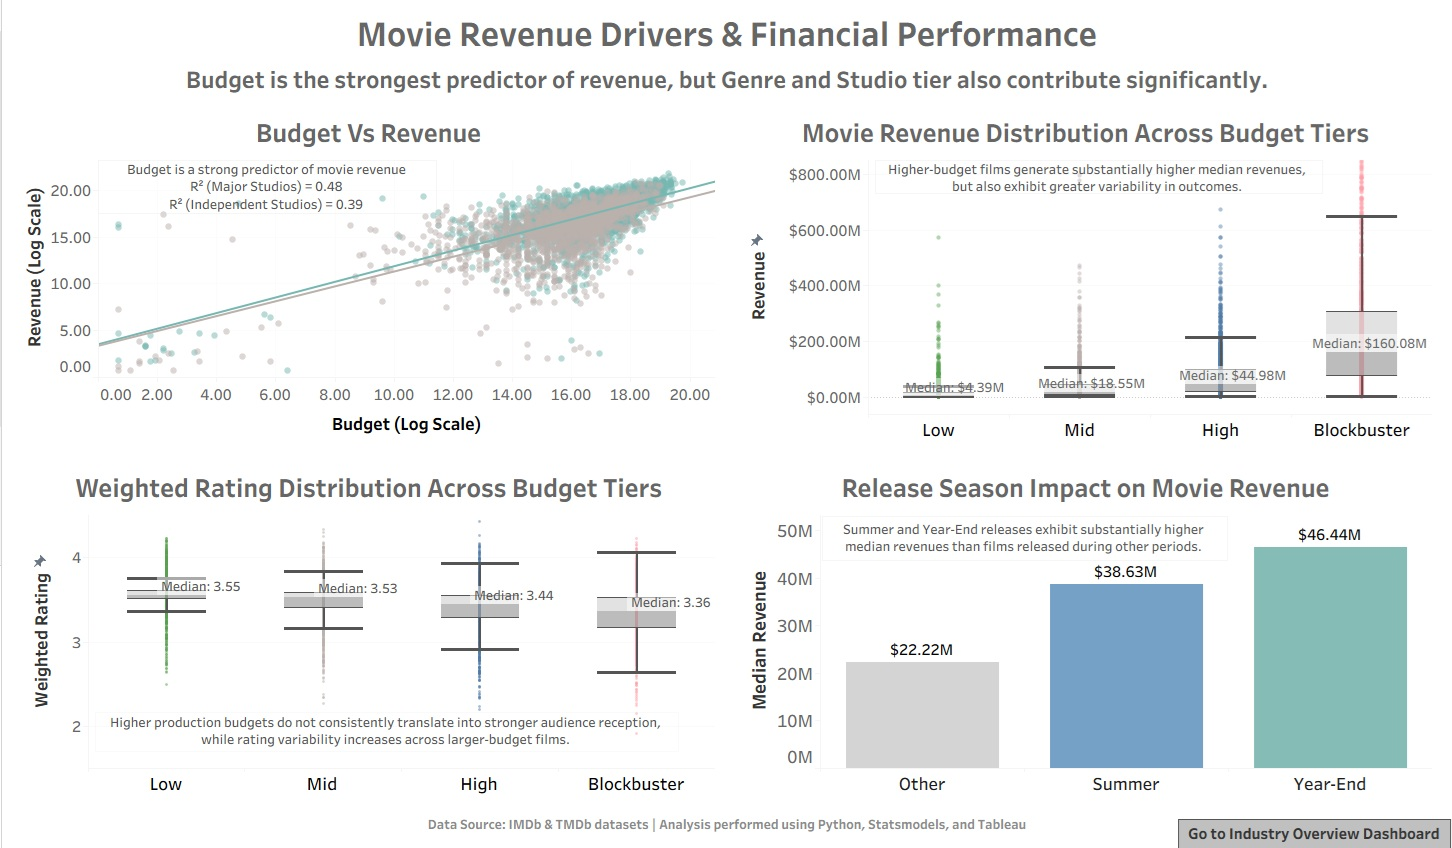

What the dashboard file says about the page in this screenshot:
{"tool":"tableau","page":{"name":"Movie Revenue Drivers & Financial Performance","canvas":[1450,850],"ordinal":1},"visuals":[{"type":"text","box":[8,8,1434,53.2]},{"type":"text","box":[8,61.2,1434,40]},{"type":"worksheet","title":"Budget Vs Revenue","mark":"Circle","rows":["log_revenue"],"cols":["log_budget"],"box":[8,101.2,717,354.8]},{"type":"worksheet","title":"Revenue By Budget Tiers","mark":"Circle","rows":["revenue"],"cols":["budget_tier"],"box":[725,101.2,717,354.8]},{"type":"worksheet","title":"Rating by Budget Tier","mark":"Circle","rows":["weighted_rating"],"cols":["budget_tier"],"box":[8,456,717,354]},{"type":"worksheet","title":"Median Revenue by Release Season","mark":"Automatic","rows":["revenue"],"cols":["release_season"],"box":[725,456,717,354]},{"type":"text","box":[8,810,1434,32]},{"type":"dashboard-object","box":[1176,821,273,30]}]}

Visuals, with their boxes in screenshot pixels (x1, y1, x2, y2), scaled from the page's 1450x850 canvas onto the 1452x848 screenshot:
text: rect(8, 8, 1444, 61)
text: rect(8, 61, 1444, 101)
"Budget Vs Revenue" worksheet (Circle marks): rect(8, 101, 726, 455)
"Revenue By Budget Tiers" worksheet (Circle marks): rect(726, 101, 1444, 455)
"Rating by Budget Tier" worksheet (Circle marks): rect(8, 455, 726, 808)
"Median Revenue by Release Season" worksheet: rect(726, 455, 1444, 808)
text: rect(8, 808, 1444, 840)
dashboard-object: rect(1178, 819, 1451, 847)
